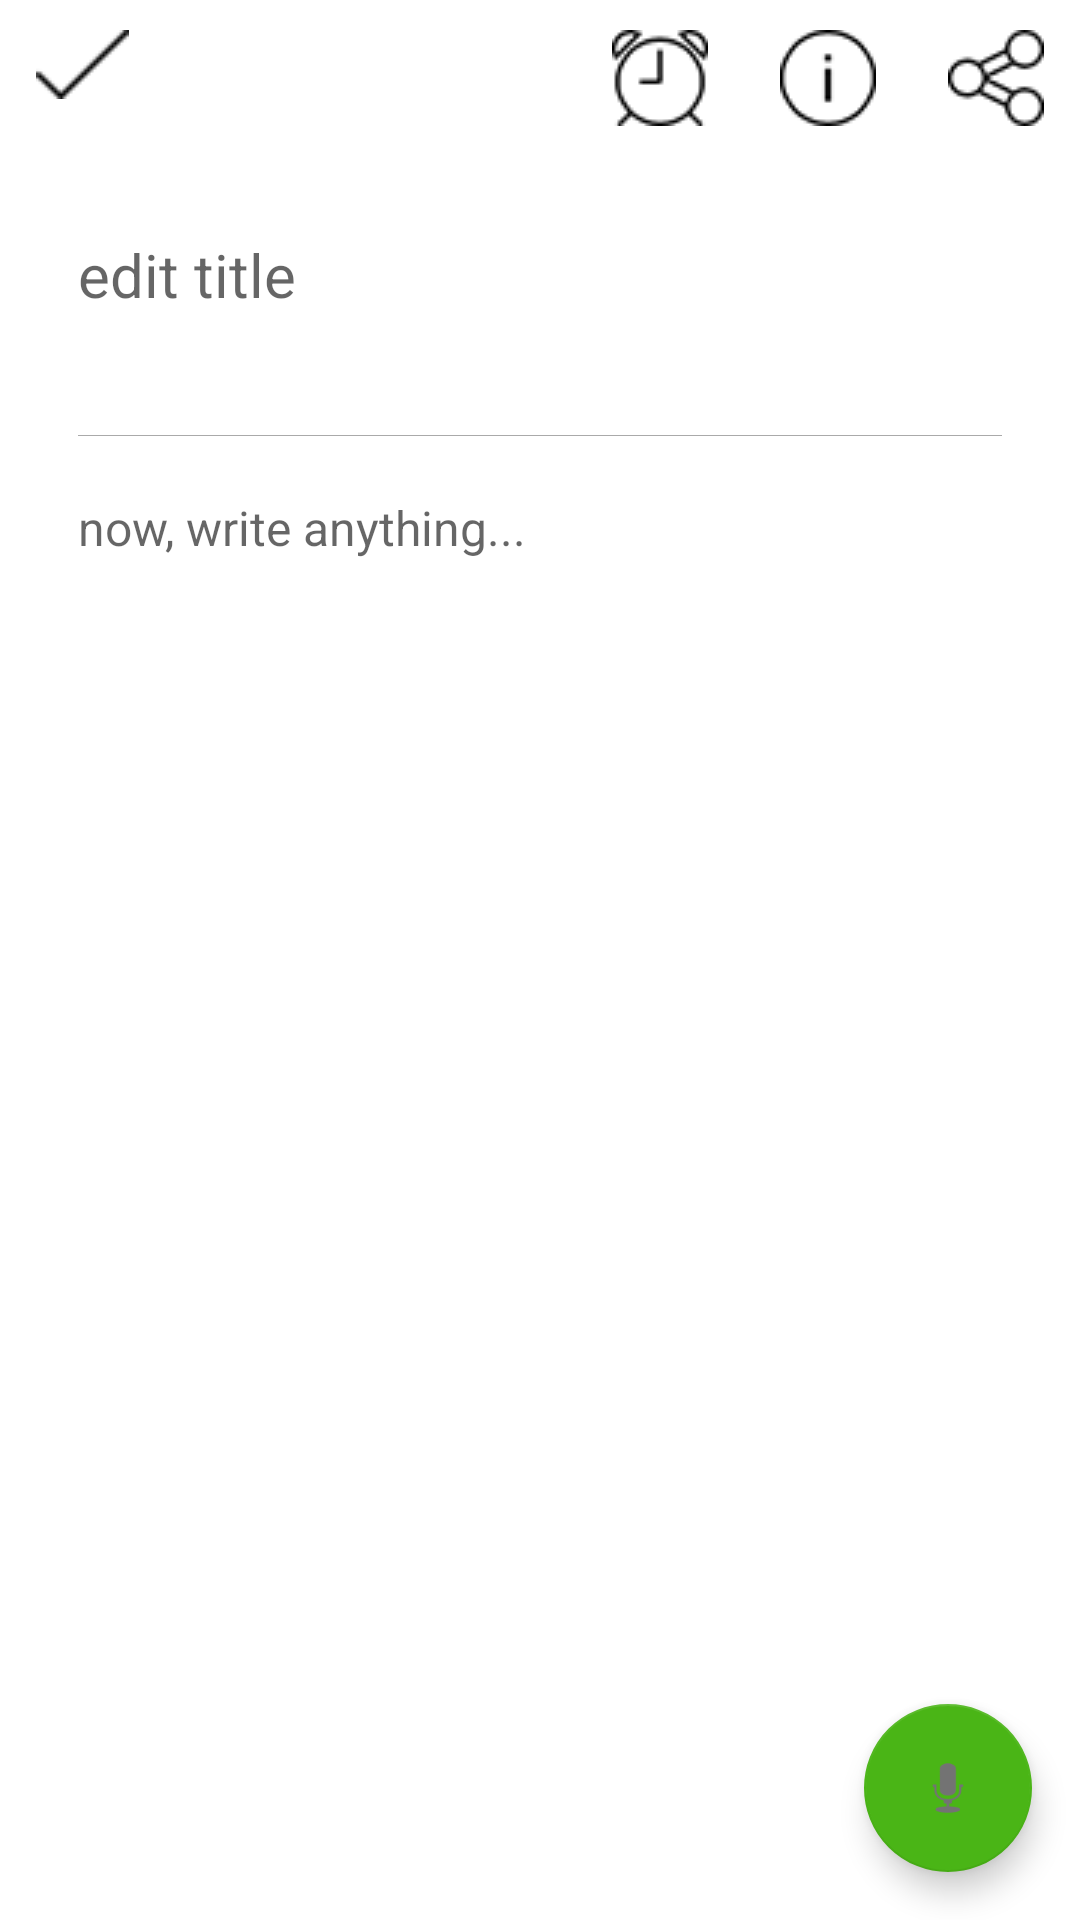

Icon click points for this 1080*1920 phone screenshot, format [x,y]:
about: [828,78]
clock: [660,78]
share: [996,78]
speak now: [948,1788]
